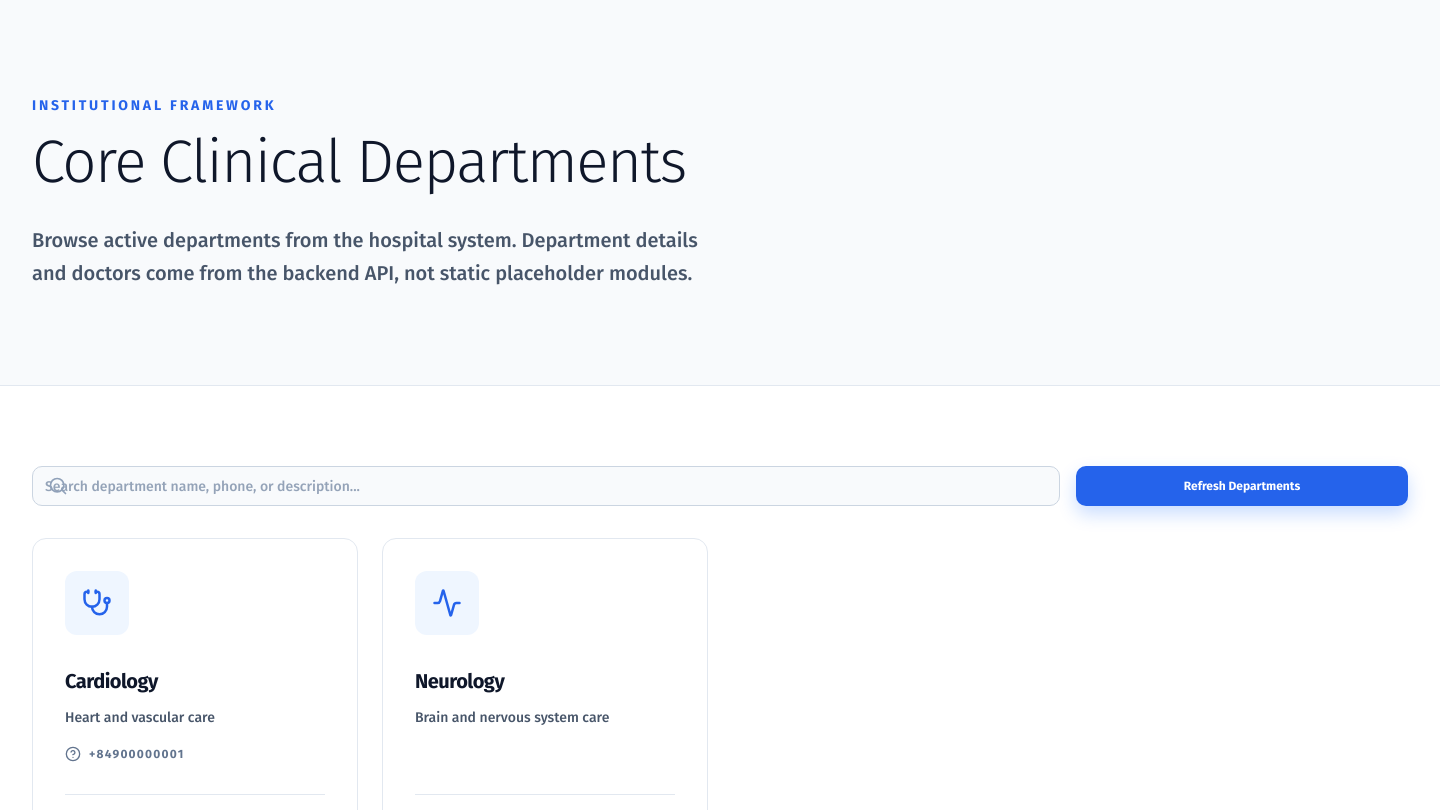
Test: PublicDepartmentsPage › filters loaded departments without showing static fallback cards
expect the heading "Cardiology" is shown: met, box x1=65 y1=669 x2=158 y2=693
Type "brain" into the search field named "search departments". click: (546, 486)
box: x1=32 y1=466 x2=1060 y2=506
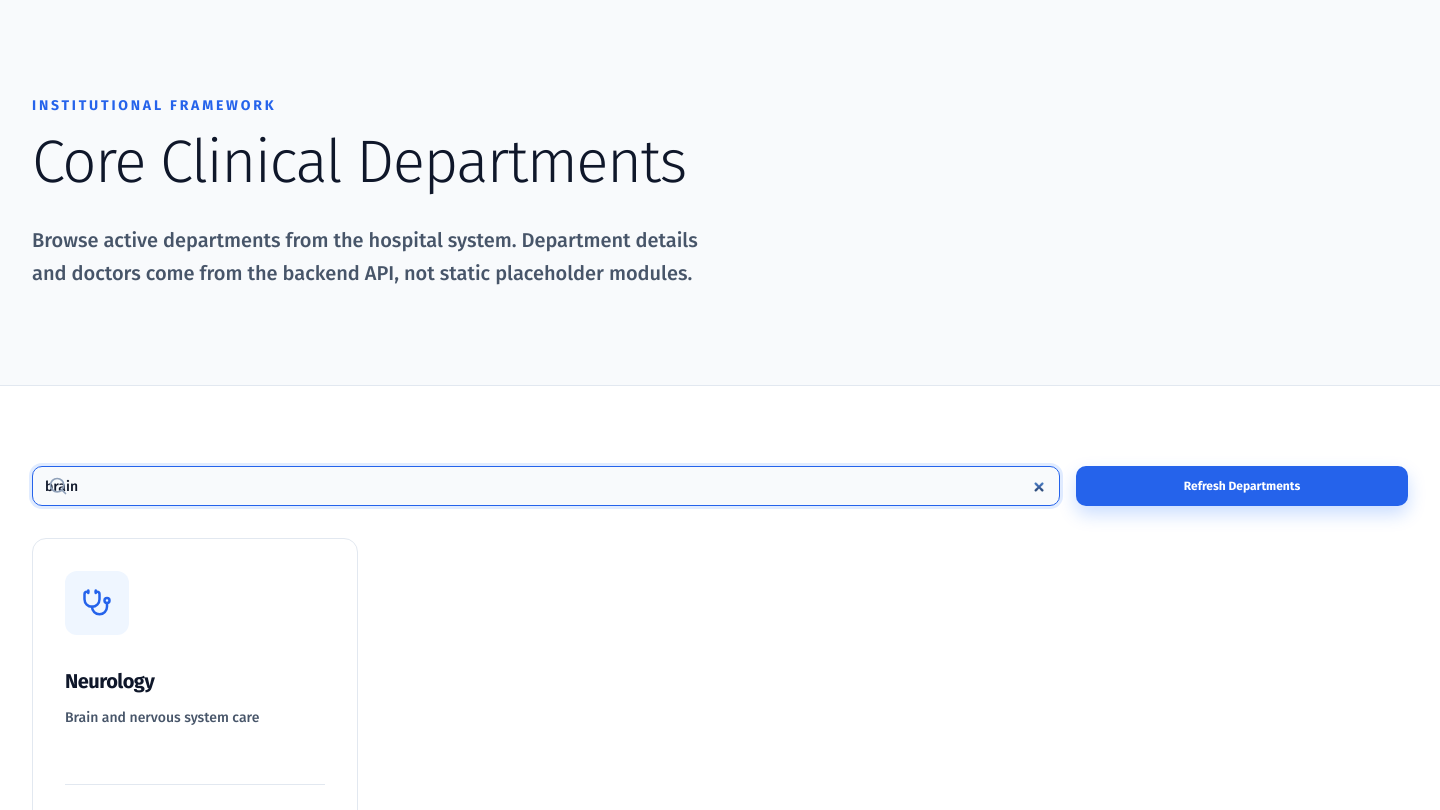
expect the heading "Neurology" is shown: met, box x1=65 y1=669 x2=154 y2=693
expect the heading "Cardiology" is gone: met
